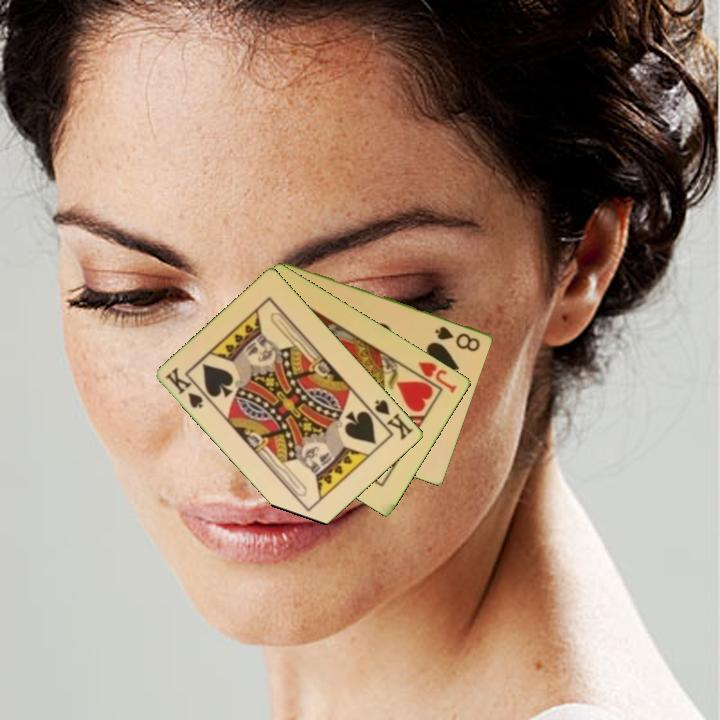8s: (432, 322, 483, 354)
Jh: (407, 358, 460, 396)
Ks: (365, 396, 416, 443), (162, 364, 207, 411)
